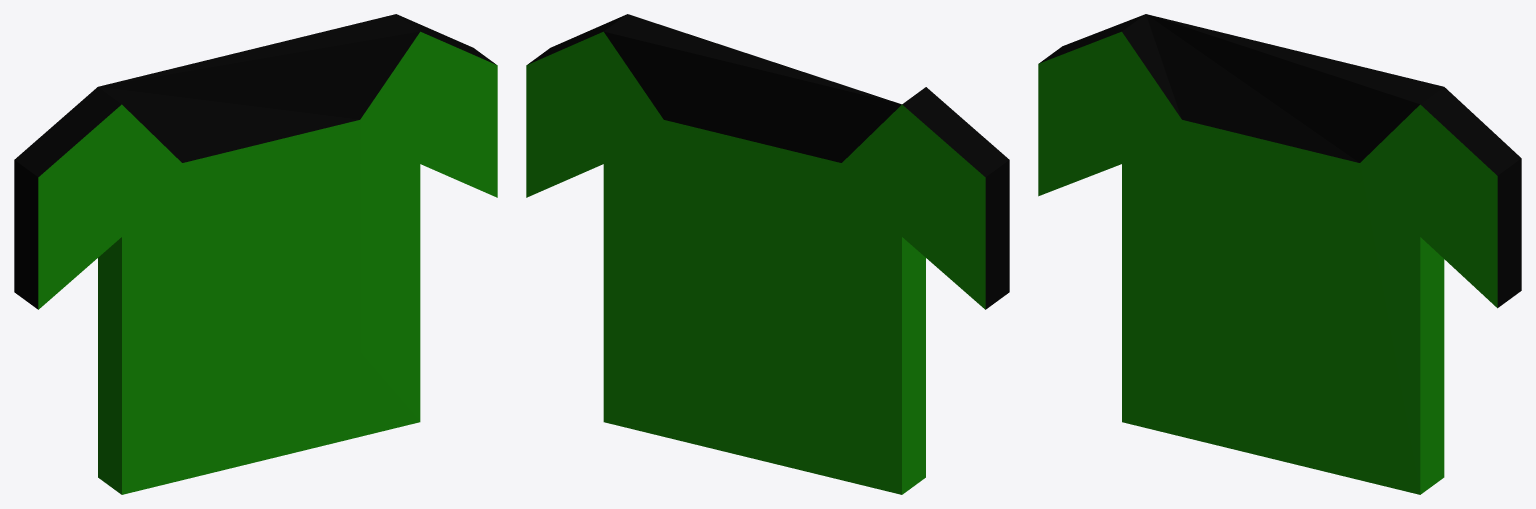
Rendered from Green_Shirt.fbx.
The picture shows the model from 3 angles, left to right: view 1: azimuth 30°, elevation 25°; view 2: azimuth 150°, elevation 25°; view 3: azimuth 330°, elevation 25°; orthographic projection.
Visible parts, largest first — view 1: pCube32; view 2: pCube32; view 3: pCube32.
Boxes of the visible parts, x1=… form: pCube32: x1=14, y1=14, x2=497, y2=494; pCube32: x1=526, y1=14, x2=1009, y2=494; pCube32: x1=1038, y1=14, x2=1521, y2=494.
Bounding box in the file's own units: 5.68 × 4.62 × 0.5212.
